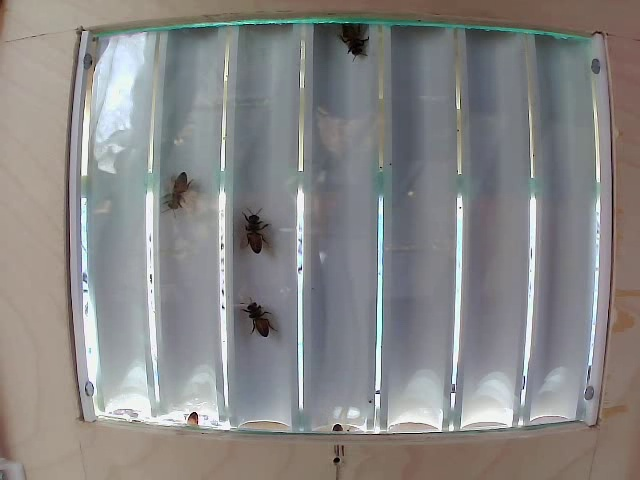bee: (237, 281, 278, 344), (244, 207, 275, 267), (160, 166, 197, 213), (347, 22, 372, 66)
